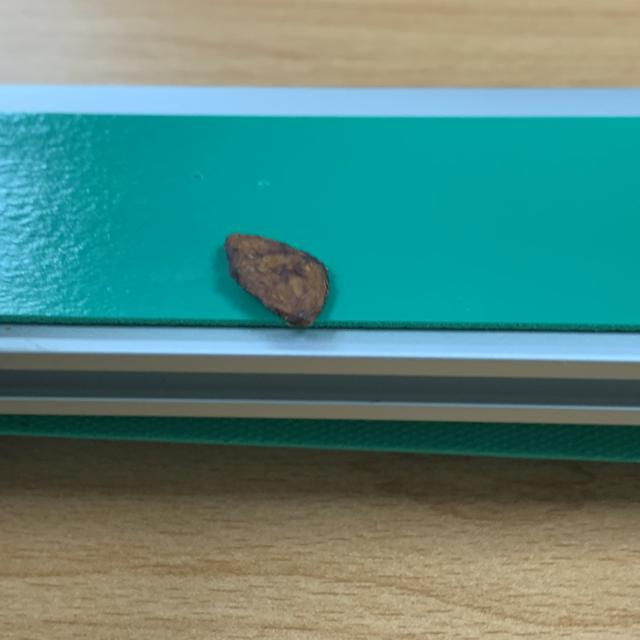Flat_cocoabeans: (126, 204, 478, 373)
